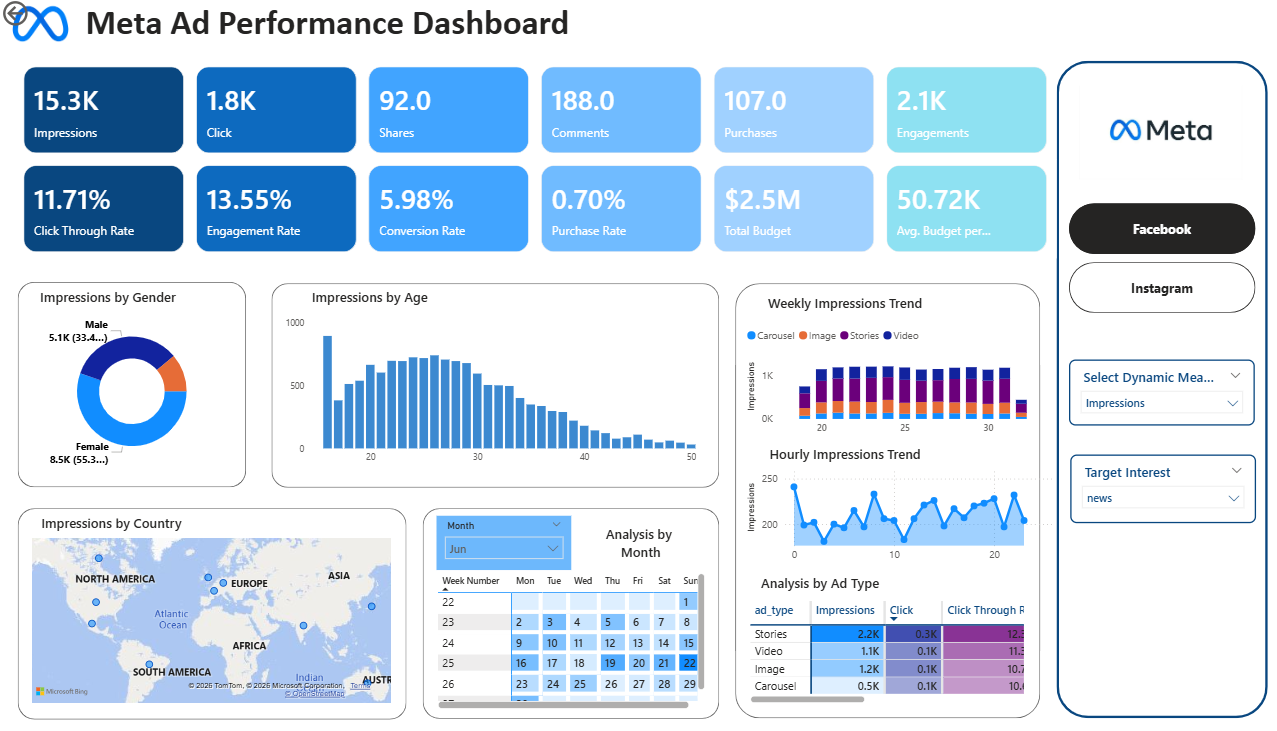

What the dashboard file says about the page in this screenshot:
{"tool":"powerbi","page":{"name":"Facebook","canvas":[1570,900],"ordinal":0},"visuals":[{"type":"textbox","box":[101.1,0,740,75.6],"z":0},{"type":"image","box":[0,0,101.1,65.6],"z":1000},{"type":"shape","box":[1293.1,78,258.3,804],"z":2000},{"type":"cardVisual","fields":{"Data":["ad_events.Impressions","ad_events.Click","ad_events.Shares","ad_events.Comments","ad_events.Purchases","ad_events.Engagements"]},"box":[22.4,77.6,1270.7,120.7],"z":3000},{"type":"cardVisual","fields":{"Data":["ad_events.Click Through Rate","ad_events.Engagement Rate","ad_events.Conversion Rate","ad_events.Purchase Rate","ad_events.Total Budget","ad_events.Avg. Budget per Campaign"]},"box":[22.4,198.3,1270.7,120.7],"z":4000},{"type":"slicer","fields":{"Values":["Select Dynamic Measure.Select Dynamic Measure"]},"box":[1307.8,442.7,227.2,80.8],"z":5000},{"type":"shape","box":[22.6,349.1,279.2,250.9],"z":6000},{"type":"donutChart","fields":{"Y":["ad_events.Impressions"],"Category":["ads.target_gender"]},"box":[30.2,384.9,264.2,194.3],"z":7000},{"type":"card","fields":{"Values":["ad_events.Gender Title"]},"box":[30.2,349.1,205.7,41.5],"z":8000},{"type":"shape","box":[332.5,350,547.5,250],"z":9000},{"type":"columnChart","fields":{"Y":["ad_events.Impressions"],"Category":["users.user_age"]},"box":[345,385,512.5,195],"z":10000},{"type":"card","fields":{"Values":["ad_events.Age Title"]},"box":[371.7,354.7,164.2,28.3],"z":11000},{"type":"actionButton","box":[0,0,100,40],"z":12000},{"type":"shape","box":[22.6,624.5,475.5,258.5],"z":13000},{"type":"map","fields":{"Y":["ad_events.Impressions"],"Category":["users.country"]},"box":[35.8,656.6,449.1,211.3],"z":14000},{"type":"card","fields":{"Values":["ad_events.Map Title"]},"box":[38.2,631.3,198.7,26],"z":15000},{"type":"shape","box":[517.5,625,362.5,257.5],"z":16000},{"type":"pivotTable","fields":{"Rows":["Calendar Table.Week Number"],"Columns":["Calendar Table.Day Name"],"Values":["Min(Calendar Table.Day Number)"]},"box":[532.5,700,336.2,175],"z":17000},{"type":"slicer","fields":{"Values":["Calendar Table.Month"]},"box":[535,633.8,165,66.2],"z":18000},{"type":"card","fields":{"Values":["ad_events.Calander Title"]},"box":[712.5,633.8,145,66.2],"z":19000},{"type":"shape","box":[900.3,350,373,531.9],"z":20000},{"type":"columnChart","fields":{"Y":["ad_events.Impressions"],"Category":["Calendar Table.Week Number"],"Series":["ads.ad_type"]},"box":[909.5,394.4,354.6,149.8],"z":21000},{"type":"card","fields":{"Values":["ad_events.Weekly Title"]},"box":[920.2,359.2,229.3,35.2],"z":22000},{"type":"areaChart","fields":{"Y":["ad_events.Impressions"],"Category":["ad_events.Event Hour"]},"box":[909.5,564,383.7,136],"z":23000},{"type":"card","fields":{"Values":["ad_events.Hourly Title"]},"box":[920.2,544.2,229.3,35.2],"z":24000},{"type":"pivotTable","fields":{"Rows":["ads.ad_type"],"Values":["ad_events.Impressions","ad_events.Click","ad_events.Click Through Rate","ad_events.Purchase Rate","ad_events.Engagement Rate","ad_events.Conversion Rate"]},"box":[914.1,733.7,343.9,134.5],"z":25000},{"type":"card","fields":{"Values":["ad_events.Matrix Title"]},"box":[909.5,703.1,189.5,30.6],"z":26000},{"type":"slicer","fields":{"Values":["ads.target_interests"]},"box":[1309.5,558.8,227.2,84.2],"z":28000},{"type":"pageNavigator","box":[1307.8,252.5,228.9,134.6],"z":29000},{"type":"image","box":[1321.2,107.7,200.3,117.8],"z":30000}]}

Visuals, with their boxes in screenshot pixels (x1, y1, x2, y2), scaled from the page's 1570x900 canvas onto the 1277x731 screenshot:
textbox: 82 0 684 61
image: 0 0 82 53
shape: 1052 63 1262 716
cardVisual - ad_events.Impressions x ad_events.Click: 18 63 1052 161
cardVisual - ad_events.Click Through Rate x ad_events.Engagement Rate: 18 161 1052 259
slicer - Select Dynamic Measure.Select Dynamic Measure: 1064 360 1249 425
shape: 18 284 245 487
donutChart - ad_events.Impressions x ads.target_gender: 25 313 239 470
card - ad_events.Gender Title: 25 284 192 317
shape: 270 284 716 487
columnChart - ad_events.Impressions x users.user_age: 281 313 697 471
card - ad_events.Age Title: 302 288 436 311
actionButton: 0 0 81 32
shape: 18 507 405 717
map - ad_events.Impressions x users.country: 29 533 394 705
card - ad_events.Map Title: 31 513 193 534
shape: 421 508 716 717
pivotTable - Calendar Table.Week Number x Calendar Table.Day Name: 433 569 707 711
slicer - Calendar Table.Month: 435 515 569 569
card - ad_events.Calander Title: 580 515 697 569
shape: 732 284 1036 716
columnChart - ad_events.Impressions x Calendar Table.Week Number: 740 320 1028 442
card - ad_events.Weekly Title: 748 292 935 320
areaChart - ad_events.Impressions x ad_events.Event Hour: 740 458 1052 569
card - ad_events.Hourly Title: 748 442 935 471
pivotTable - ads.ad_type x ad_events.Impressions: 744 596 1023 705
card - ad_events.Matrix Title: 740 571 894 596
slicer - ads.target_interests: 1065 454 1250 522
pageNavigator: 1064 205 1250 314
image: 1075 87 1238 183
